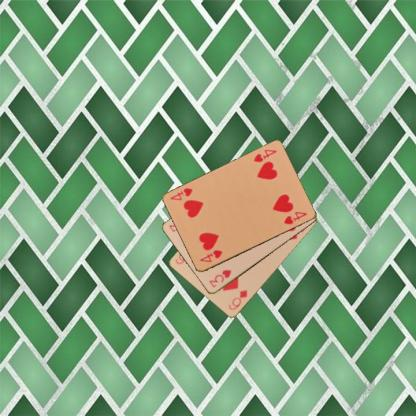3h: (206, 267, 232, 289)
4h: (251, 146, 278, 164), (197, 247, 224, 264)
6d: (226, 288, 248, 312)
